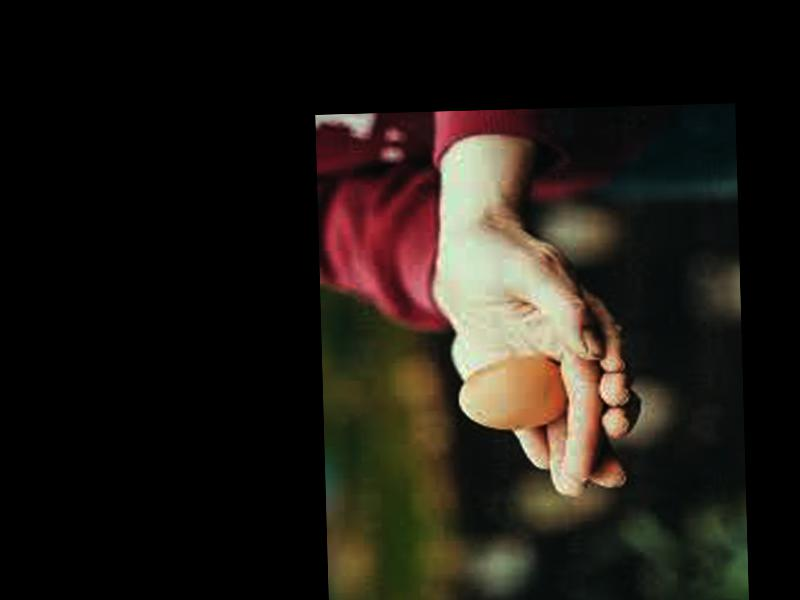Eggs: (457, 356, 565, 430)
